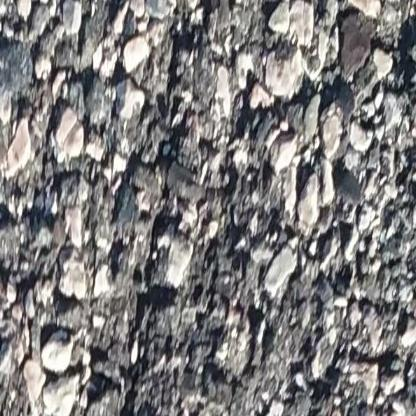Cracks: (113, 0, 210, 416)
